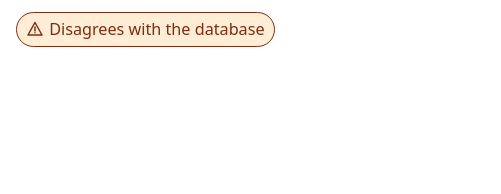
a disputed badge shows the claim, every reading and a caution
The image size is (501, 194).
Click the button "Disagrees with the database": (146, 29) [16,12,275,47]
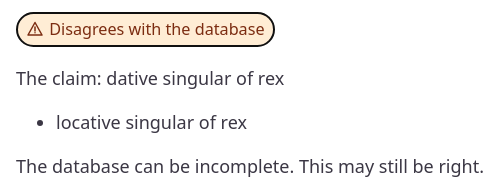
Expected: the text "The claim: dative singular of rex" is shown, [16,66,284,90]
Expected: the list item "locative singular of rex" is shown, [56,110,247,134]
Expected: the text "The database can be incomplete. This may still be right." is shown, [16,154,484,178]
